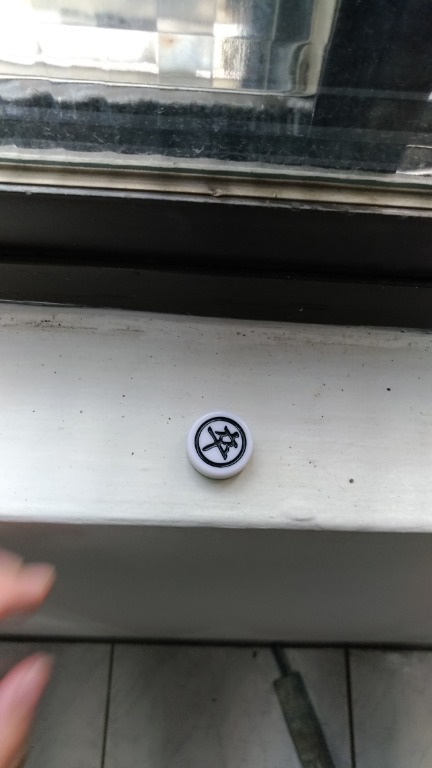b-pawn: (173, 399, 276, 492)
